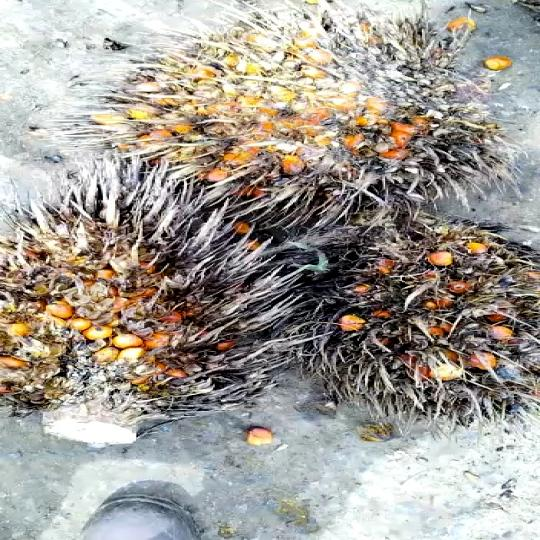terlalu masak: (119, 13, 500, 234), (0, 208, 270, 440), (280, 202, 540, 415)
